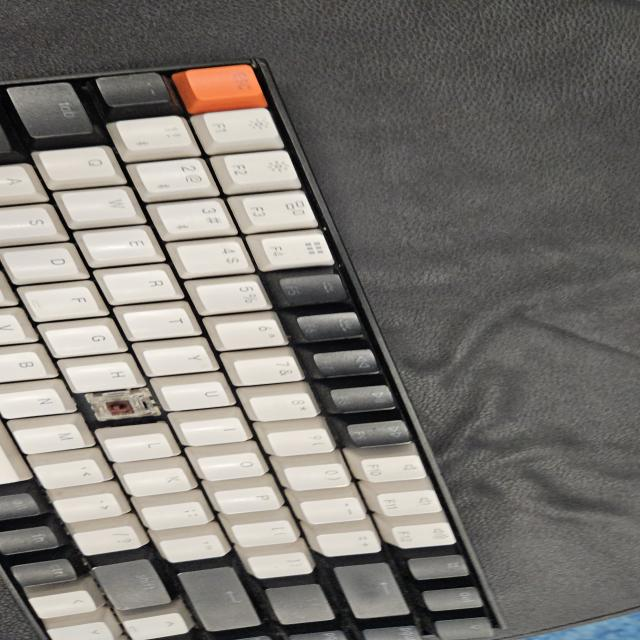C: (87, 389, 144, 427)
